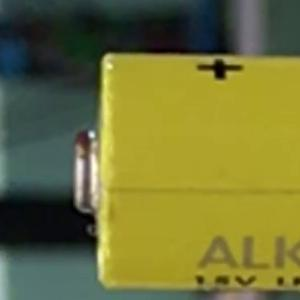ALK: (185, 228, 294, 295)
